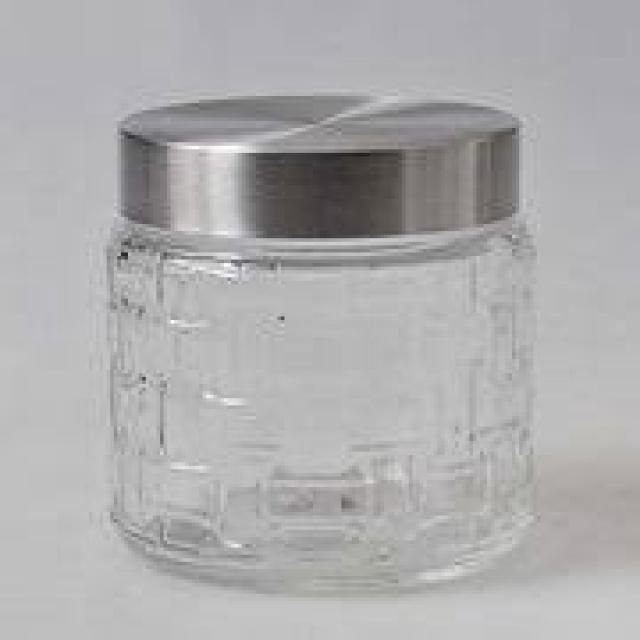glass: (103, 213, 537, 594)
metal: (114, 100, 519, 235)
